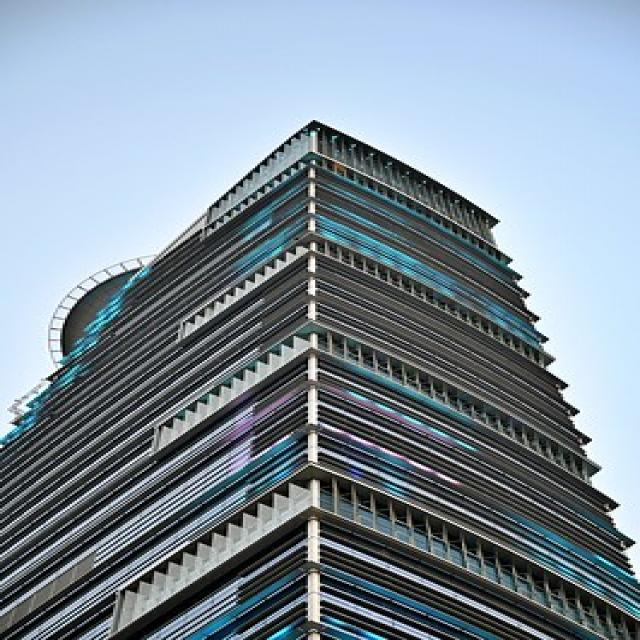Normal_building: (12, 113, 633, 640)
